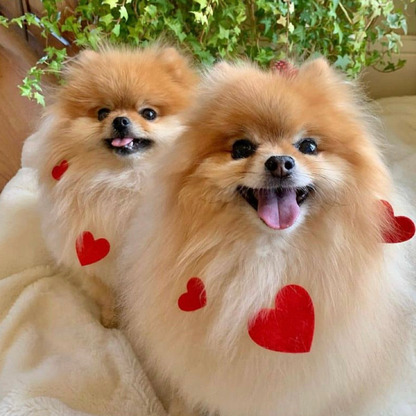Pomeranian: (29, 37, 204, 302), (176, 57, 380, 274)
